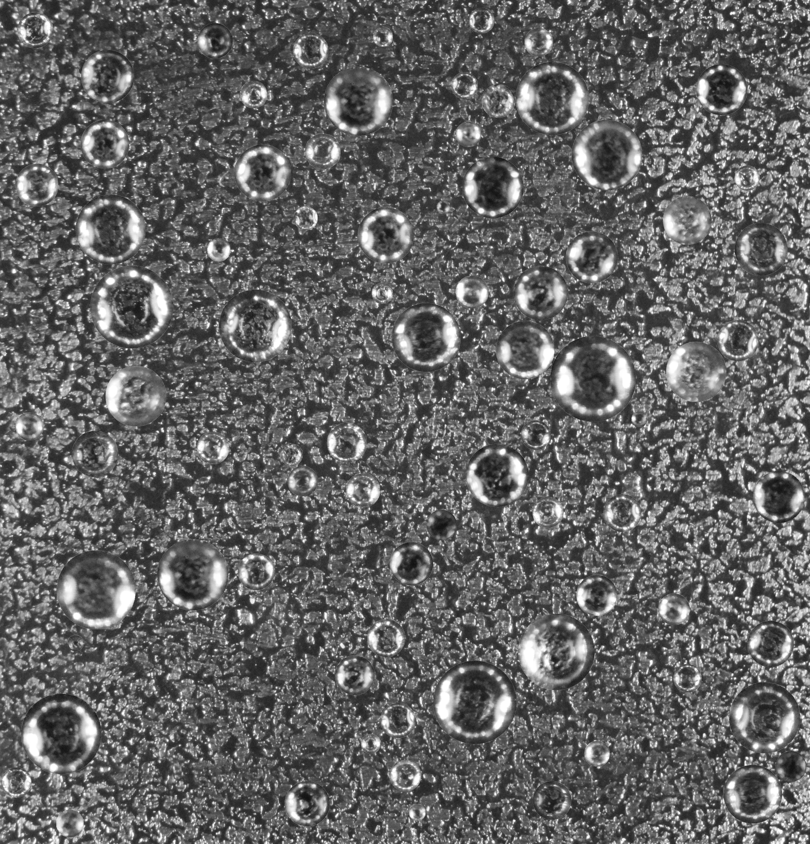Bubble: (550, 336, 635, 421), (433, 660, 516, 744), (90, 265, 173, 348), (21, 693, 101, 774), (56, 550, 135, 629), (518, 613, 594, 690), (515, 61, 588, 134), (219, 289, 291, 362), (729, 682, 800, 753), (571, 119, 642, 190), (157, 539, 228, 610), (75, 194, 145, 264), (391, 303, 460, 371), (324, 66, 392, 135), (465, 444, 528, 506), (462, 156, 523, 218), (105, 365, 166, 426), (666, 341, 726, 401), (723, 765, 782, 823), (496, 320, 554, 379), (234, 144, 290, 201), (357, 207, 413, 263), (513, 265, 567, 320), (734, 222, 787, 275), (81, 49, 134, 102), (566, 231, 617, 283), (753, 471, 804, 522), (696, 64, 747, 115), (80, 119, 129, 168), (663, 196, 711, 244), (71, 430, 118, 477), (747, 620, 793, 667), (284, 781, 329, 826), (389, 542, 433, 585), (15, 163, 58, 206), (717, 320, 758, 361), (576, 575, 617, 615), (327, 422, 366, 462), (335, 655, 374, 695), (532, 781, 571, 819), (367, 619, 405, 657), (603, 494, 641, 531), (237, 553, 274, 590), (17, 12, 53, 48), (305, 133, 340, 169), (380, 703, 415, 738), (197, 23, 232, 58), (293, 33, 328, 68), (346, 473, 380, 507), (481, 84, 515, 117), (196, 431, 229, 464), (455, 275, 488, 308), (658, 593, 689, 625), (389, 760, 421, 791), (426, 509, 456, 540), (775, 751, 806, 781), (532, 497, 563, 527), (287, 466, 317, 496), (1, 767, 31, 797), (524, 27, 553, 56), (521, 420, 550, 449), (673, 664, 701, 692), (15, 412, 43, 440), (239, 80, 267, 108), (56, 809, 83, 837), (451, 72, 477, 98), (455, 121, 481, 146), (469, 7, 494, 33), (734, 165, 759, 190), (584, 741, 609, 766), (293, 206, 317, 230), (207, 238, 230, 261), (280, 443, 302, 465), (371, 282, 392, 303), (373, 26, 392, 46), (361, 734, 380, 753), (631, 411, 647, 427), (409, 804, 425, 820), (67, 635, 83, 651), (436, 200, 450, 213)
